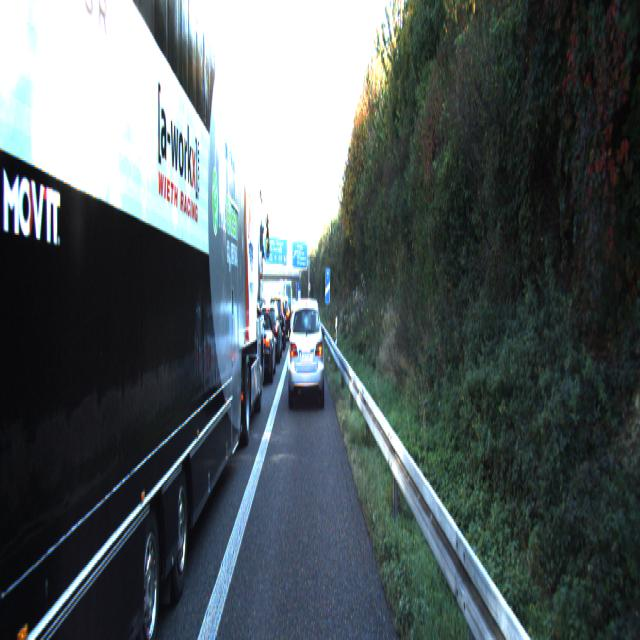Car: (14, 0, 265, 639), (287, 296, 324, 409), (244, 312, 276, 384)
